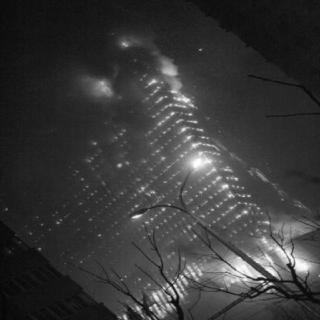Fire: (56, 41, 314, 317)
